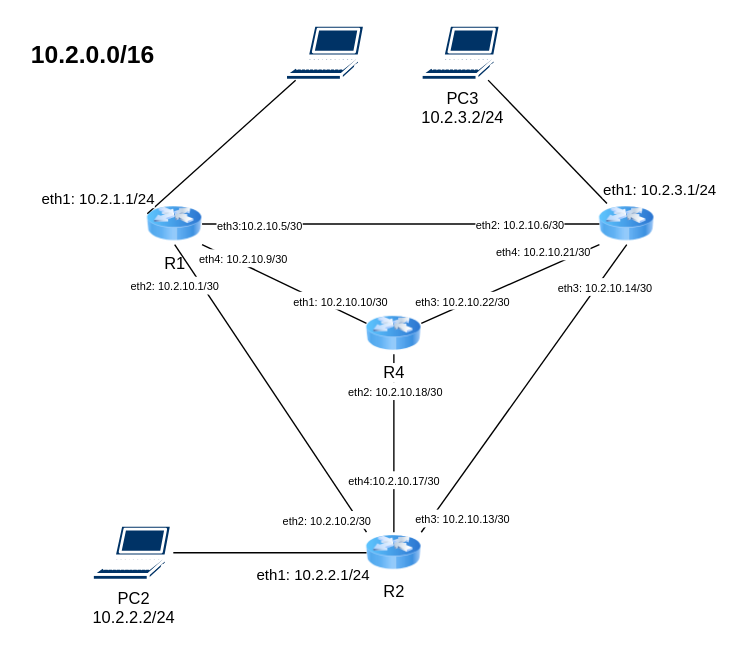
The diagram is 740 pixels wide and 671 high, and some of its shapes have lost their labels. Each missing label, with the box of its shape:
PC1 10.2.1.2/24: (284, 23, 367, 81)
R3: (599, 203, 653, 244)
